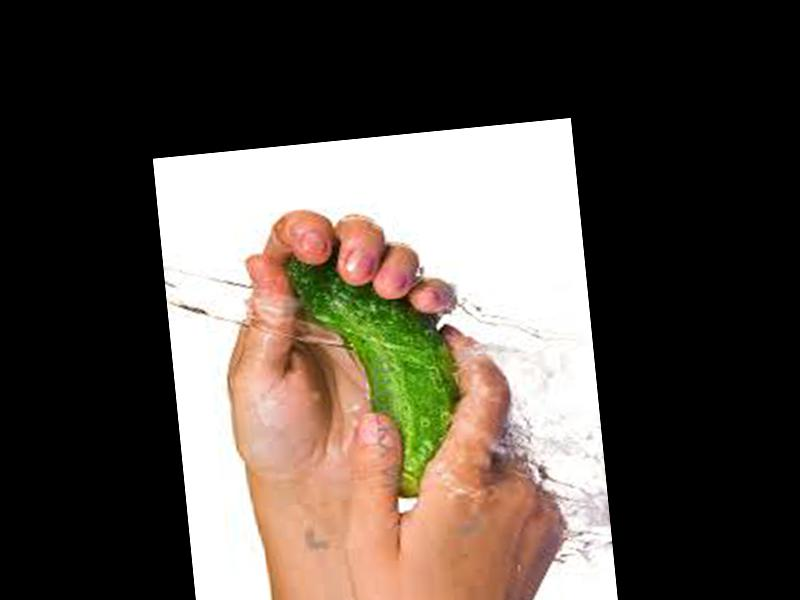Cucumber: (284, 240, 471, 510)
